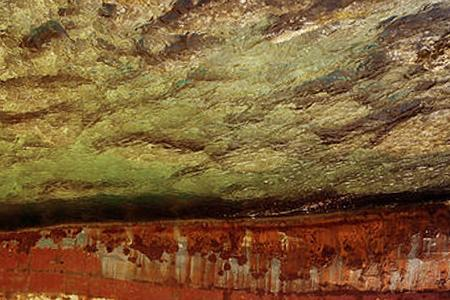rust: (3, 219, 449, 298)
